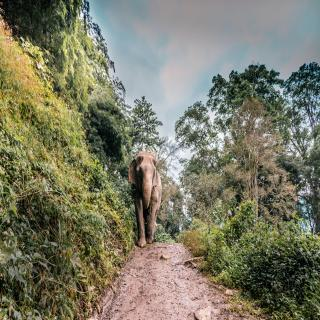Elephant: (127, 148, 164, 251)
